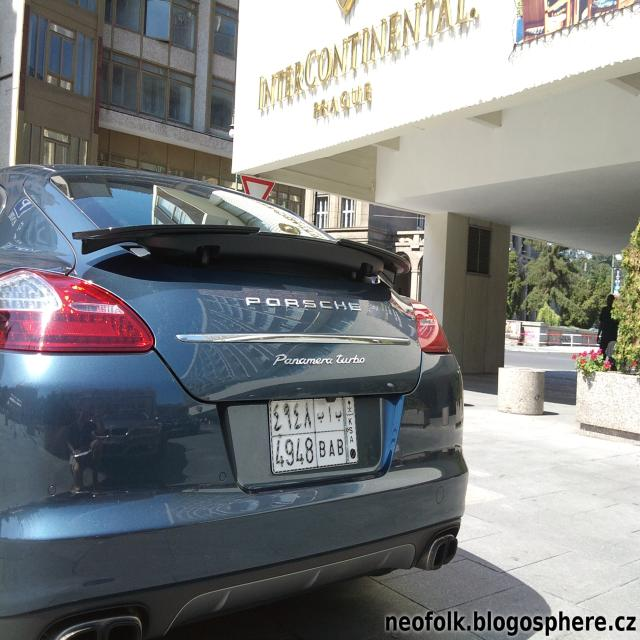license_plate: (265, 391, 361, 477)
